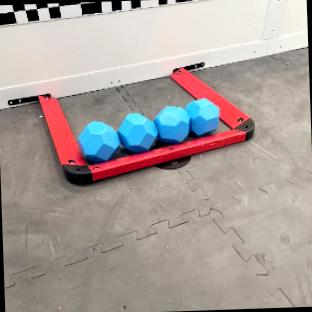V5_BLUE: (78, 99, 219, 163), (78, 121, 118, 161), (118, 114, 157, 152), (155, 106, 189, 143), (187, 98, 219, 135)
